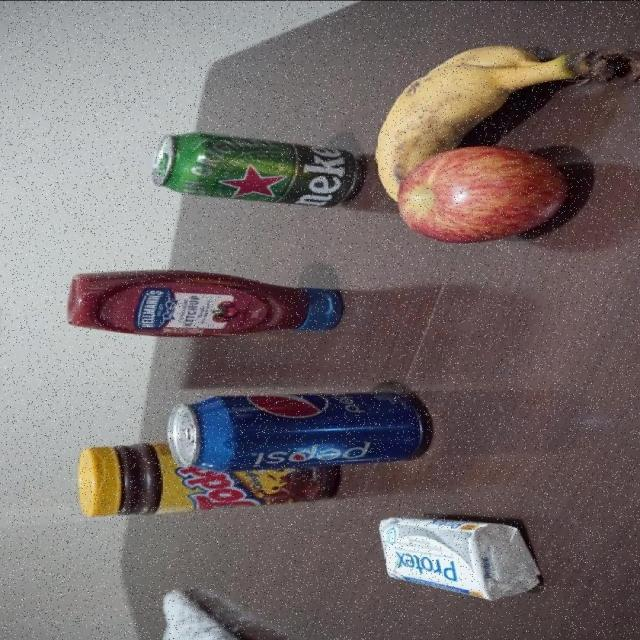Apple: (393, 144, 569, 242)
Banana: (373, 36, 640, 142)
BeerCan: (146, 133, 356, 204)
ChocolatePowder: (79, 469, 335, 518)
Ketchup: (67, 270, 344, 336)
Soap: (377, 517, 539, 591)
SodaCan: (166, 389, 430, 467)
